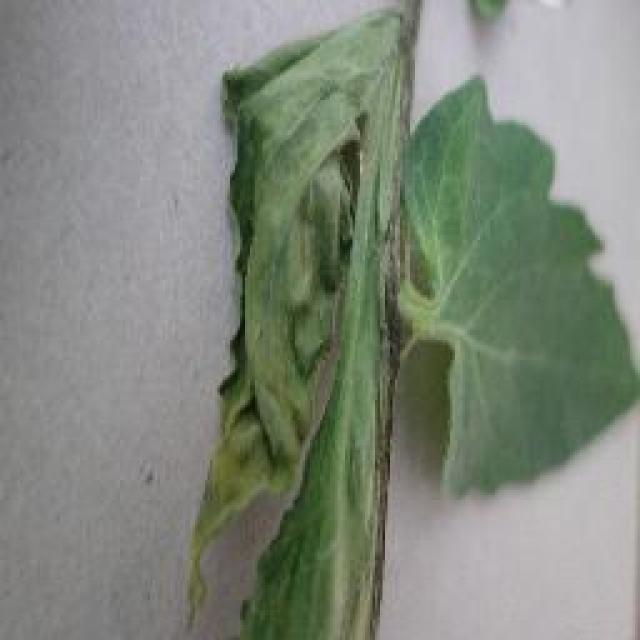Tomato late blight leaf: (200, 43, 640, 605)
